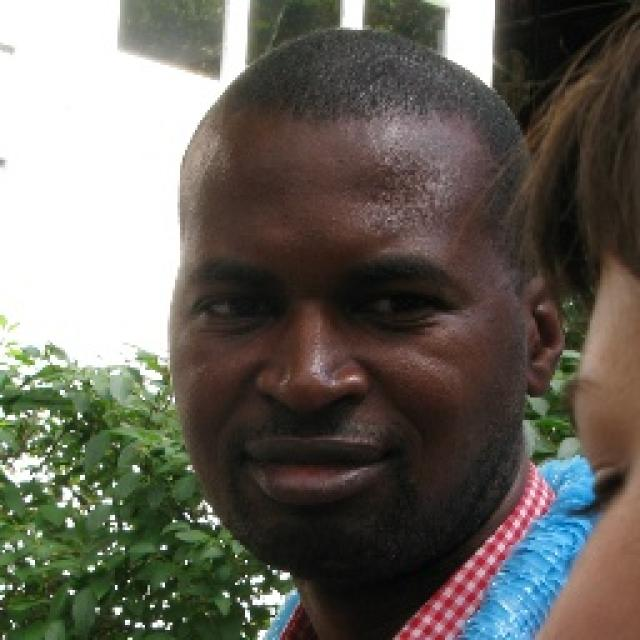earlobe: (525, 273, 565, 399)
